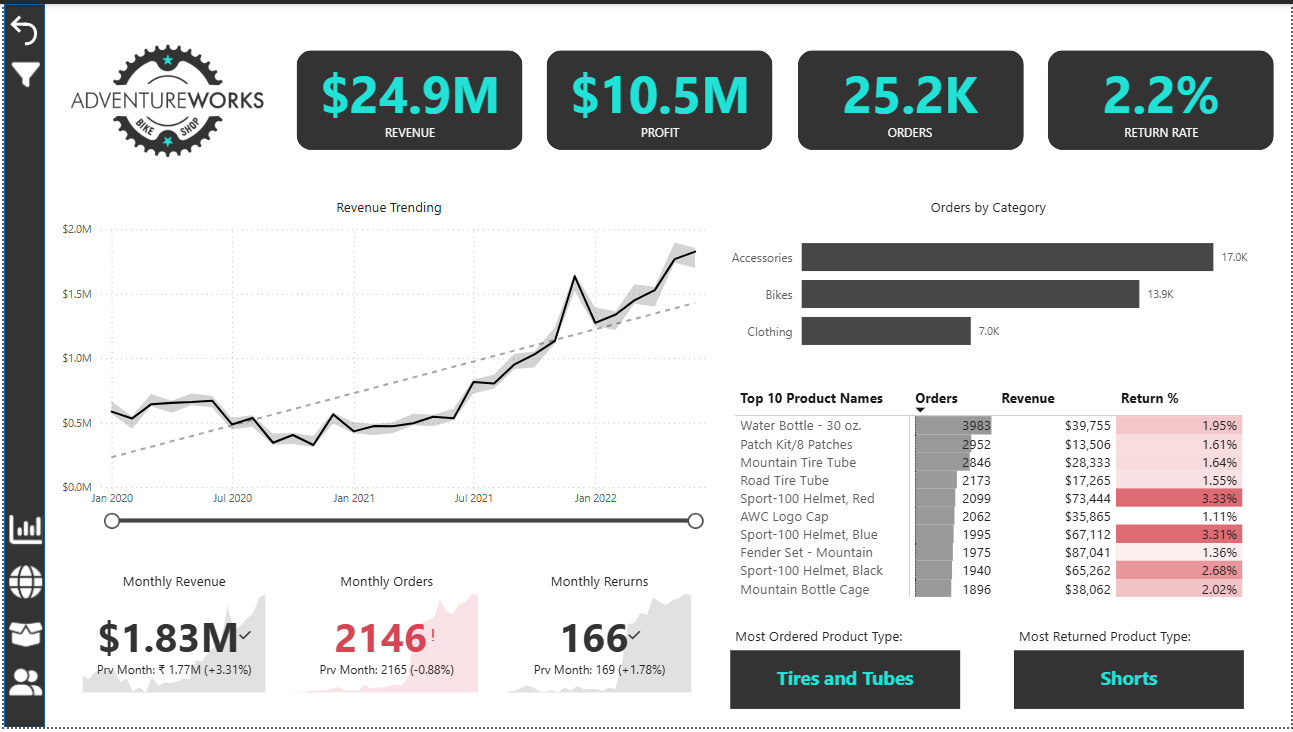

Layout of this report page (visuals, bound fields, positions):
{"tool":"powerbi","page":{"name":"Exec Dashoboarc","canvas":[1280,720],"ordinal":0},"visuals":[{"type":"card","fields":{"Values":["Measure Table.Total Revenue"]},"box":[282.4,18.7,243.8,153],"z":0,"group":"g2"},{"type":"image","title":"AW logo","box":[41.1,19.9,243.8,153],"z":0},{"type":"group","id":"g1","title":"KPI bg","box":[291.1,46.1,972.8,99.5],"z":0,"group":"g3"},{"type":"shape","box":[291.1,46.1,225.2,99.5],"z":0,"group":"g1"},{"type":"actionButton","box":[1.2,500.1,41.1,46],"z":0,"group":"g4"},{"type":"shape","title":"left nav bg","box":[0,0,41.1,720.3],"z":1000},{"type":"group","id":"g2","title":"KPI values","box":[282.4,18.7,991.4,153],"z":1000,"group":"g3"},{"type":"card","fields":{"Values":["Measure Table.Total Profit"]},"box":[531.2,18.7,243.8,153],"z":1000,"group":"g2"},{"type":"shape","box":[540.3,46.1,225.2,99.5],"z":1000,"group":"g1"},{"type":"actionButton","box":[0.9,552.1,41.1,46],"z":1000,"group":"g4"},{"type":"group","id":"g3","title":"KPIs","box":[282.4,18.7,991.4,153],"z":2000},{"type":"card","fields":{"Values":["Measure Table.Total Orders"]},"box":[780,18.7,243.8,153],"z":2000,"group":"g2"},{"type":"shape","box":[789.5,46.1,225.2,99.5],"z":2000,"group":"g1"},{"type":"actionButton","box":[0.9,604.2,41.1,46],"z":2000,"group":"g4"},{"type":"card","fields":{"Values":["Measure Table.Return Rate"]},"box":[1030,18.7,243.8,153],"z":3000,"group":"g2"},{"type":"shape","box":[1038.7,46.1,225.2,99.5],"z":3000,"group":"g1"},{"type":"lineChart","title":"Revenue Trending","fields":{"Y":["Measure Table.Total Revenue"],"Category":["Calendar Lookup.Start of Month"]},"box":[52.2,192.8,661.8,332.1],"z":3000},{"type":"actionButton","box":[0.9,651.9,41.1,46],"z":3000,"group":"g4"},{"type":"kpi","title":"Monthly Revenue","fields":{"Indicator":["Measure Table.Total Revenue"],"TrendLine":["Calendar Lookup.Start of Month"],"Goal":["Measure Table.Previous Month Revenue"]},"box":[73.4,564.8,192,125.6],"z":4000},{"type":"kpi","title":"Monthly Orders","fields":{"TrendLine":["Calendar Lookup.Start of Month"],"Indicator":["Measure Table.Total Orders"],"Goal":["Measure Table.Previous Month Orders"]},"box":[284.9,564.8,192,125.6],"z":5000},{"type":"kpi","title":"Monthly Rerurns","fields":{"TrendLine":["Calendar Lookup.Start of Month"],"Indicator":["Measure Table.Total Returns"],"Goal":["Measure Table.Previous Month Returns"]},"box":[496.3,564.8,192.8,125.6],"z":6000},{"type":"clusteredBarChart","title":"Orders by Category","fields":{"Category":["Product Categories Lookup.CategoryName"],"Y":["Measure Table.Total Orders"]},"box":[714,192.8,531.2,167.9],"z":7000},{"type":"pivotTable","fields":{"Rows":["Product Lookup.ProductName"],"Values":["Measure Table.Total Orders","Measure Table.Total Revenue","Measure Table.Return Rate"]},"box":[722.2,378.4,530.7,236.7],"z":8000},{"type":"card","fields":{"Values":["Min(Product Subcategories Lookup.SubcategoryName)"]},"box":[722.7,643.1,228.9,58.5],"z":9000},{"type":"card","fields":{"Values":["Min(Product Subcategories Lookup.SubcategoryName)"]},"box":[1005.5,643.7,228.9,58.5],"z":10000},{"type":"textbox","box":[722.7,614.5,196.5,36.1],"z":11000},{"type":"textbox","box":[1005.1,614.5,196.5,36.1],"z":12000},{"type":"actionButton","box":[0,6.2,41.1,39.8],"z":13000},{"type":"group","id":"g4","title":"Navigation Buttons","box":[0.9,500.1,41.4,197.8],"z":14500},{"type":"actionButton","box":[3.7,52.2,39.8,36.1],"z":14750}]}

Visuals, with their boxes on the page's 1280x720 design canvas (x1, y1, x2, y2). These are canvas units, not pixel positions in the 1293x732 screenshot, which may show the page scaled, cropped or inside an application window:
card - Measure Table.Total Revenue: select_region(282, 19, 526, 172)
"AW logo" image: select_region(41, 20, 285, 173)
"KPI bg" group: select_region(291, 46, 1264, 146)
shape: select_region(291, 46, 516, 146)
actionButton: select_region(1, 500, 42, 546)
"left nav bg" shape: select_region(0, 0, 41, 720)
"KPI values" group: select_region(282, 19, 1274, 172)
card - Measure Table.Total Profit: select_region(531, 19, 775, 172)
shape: select_region(540, 46, 766, 146)
actionButton: select_region(1, 552, 42, 598)
"KPIs" group: select_region(282, 19, 1274, 172)
card - Measure Table.Total Orders: select_region(780, 19, 1024, 172)
shape: select_region(790, 46, 1015, 146)
actionButton: select_region(1, 604, 42, 650)
card - Measure Table.Return Rate: select_region(1030, 19, 1274, 172)
shape: select_region(1039, 46, 1264, 146)
"Revenue Trending" lineChart: select_region(52, 193, 714, 525)
actionButton: select_region(1, 652, 42, 698)
"Monthly Revenue" kpi: select_region(73, 565, 265, 690)
"Monthly Orders" kpi: select_region(285, 565, 477, 690)
"Monthly Rerurns" kpi: select_region(496, 565, 689, 690)
"Orders by Category" clusteredBarChart: select_region(714, 193, 1245, 361)
pivotTable - Product Lookup.ProductName x Measure Table.Total Orders: select_region(722, 378, 1253, 615)
card - Min(Product Subcategories Lookup.SubcategoryName): select_region(723, 643, 952, 702)
card - Min(Product Subcategories Lookup.SubcategoryName): select_region(1006, 644, 1234, 702)
textbox: select_region(723, 614, 919, 651)
textbox: select_region(1005, 614, 1202, 651)
actionButton: select_region(0, 6, 41, 46)
"Navigation Buttons" group: select_region(1, 500, 42, 698)
actionButton: select_region(4, 52, 44, 88)
